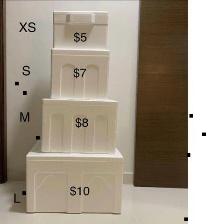foam_box: (20, 136, 127, 217), (35, 93, 123, 157), (46, 45, 114, 102), (49, 7, 112, 52)
